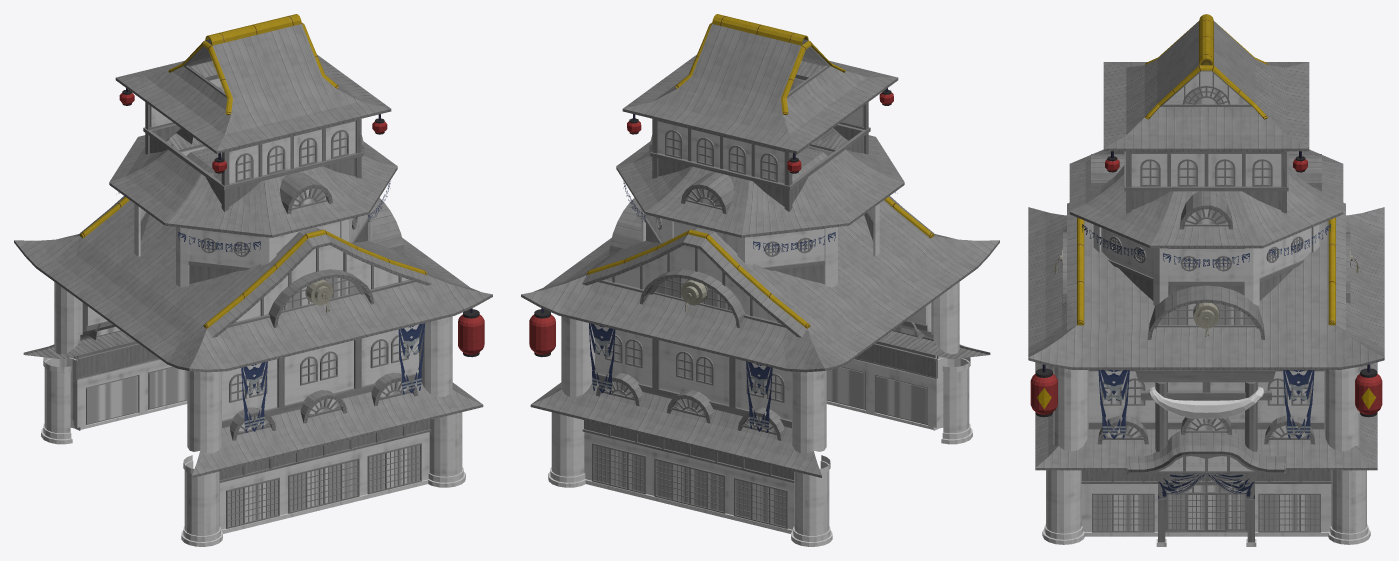
Rendered from REDUCTION_SM_ENV_KNVLLG_CommonBuilding_J_3.mo.fbx.
3 renders of one model, left to right at view 1: azimuth 30°, elevation 25°; view 2: azimuth 150°, elevation 25°; view 3: azimuth 270°, elevation 25°, orthographic.
Visible parts, largest first — view 1: REDUCTION_SM_ENV_KNVLLG_CommonBuilding_J_3.mo; view 2: REDUCTION_SM_ENV_KNVLLG_CommonBuilding_J_3.mo; view 3: REDUCTION_SM_ENV_KNVLLG_CommonBuilding_J_3.mo.
Part boxes in pixels (bbox=[...]): REDUCTION_SM_ENV_KNVLLG_CommonBuilding_J_3.mo: bbox=[14, 14, 492, 546]; REDUCTION_SM_ENV_KNVLLG_CommonBuilding_J_3.mo: bbox=[521, 14, 999, 546]; REDUCTION_SM_ENV_KNVLLG_CommonBuilding_J_3.mo: bbox=[1028, 14, 1384, 546].
Bounding box in the file's own units: 25 × 34 × 25.
